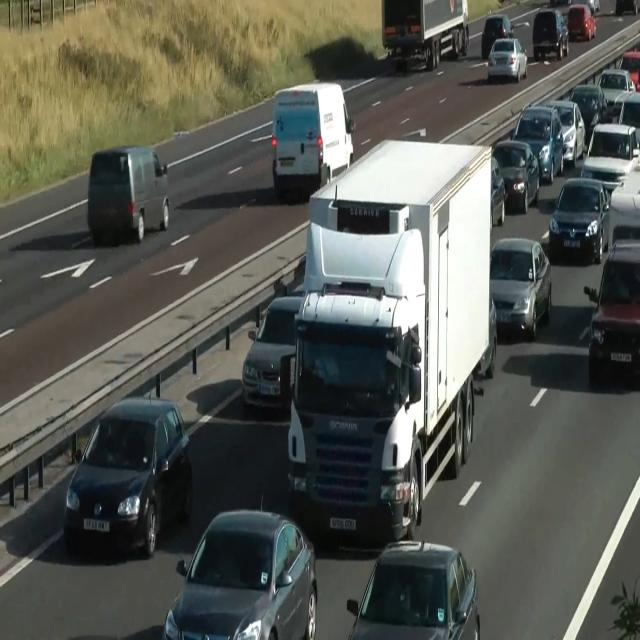bus: (63, 391, 193, 557), (162, 508, 318, 639), (346, 539, 480, 639), (584, 239, 640, 383), (241, 294, 303, 411), (489, 236, 552, 338), (548, 177, 608, 264), (510, 104, 564, 185), (580, 122, 640, 194), (492, 139, 540, 213), (603, 157, 639, 251), (543, 99, 585, 167), (568, 84, 607, 146), (474, 292, 497, 378), (488, 37, 528, 82), (612, 90, 640, 146), (597, 68, 635, 108), (481, 14, 514, 59), (490, 156, 506, 227), (567, 4, 596, 42), (616, 47, 640, 92), (569, 0, 599, 14), (615, 0, 639, 15), (587, 0, 599, 13), (549, 0, 571, 6)
car: (286, 284, 424, 542)
jeep: (271, 80, 355, 196), (86, 145, 170, 243), (532, 7, 568, 61)
minibus: (286, 138, 496, 543), (381, 0, 469, 71)
